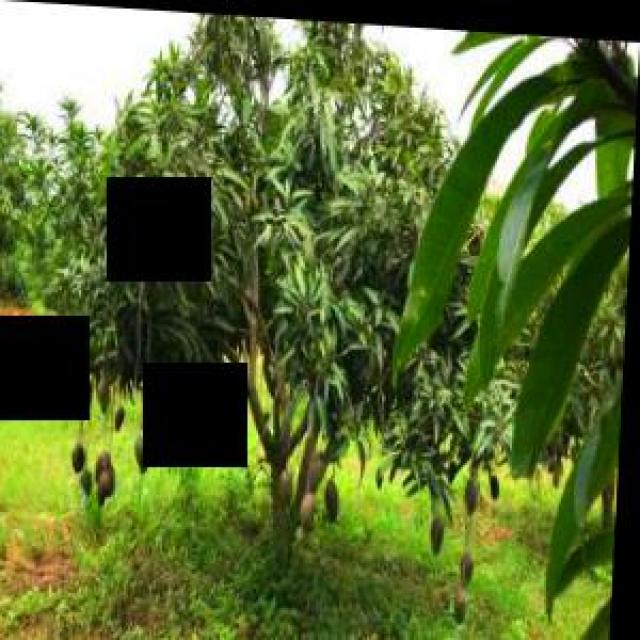tree: (63, 5, 536, 624)
